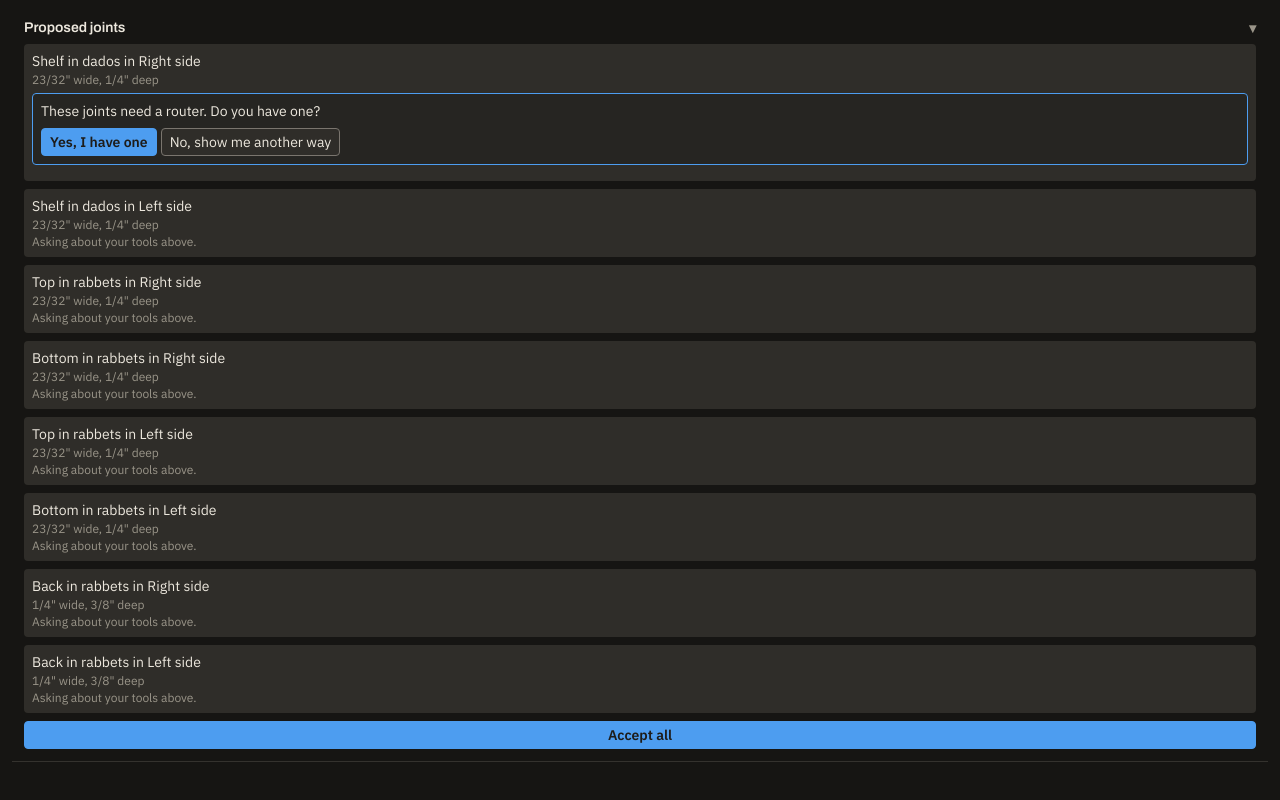
Scenario: the Joinery step › with a shop never told about its tools › asks about a router when a straight bit would cut the dados
expect the text "These joints need a router. Do you have one?" is shown once: met, box [41,102,320,120]
Click the button "Yes, I have one": (99, 142) [41,128,157,156]
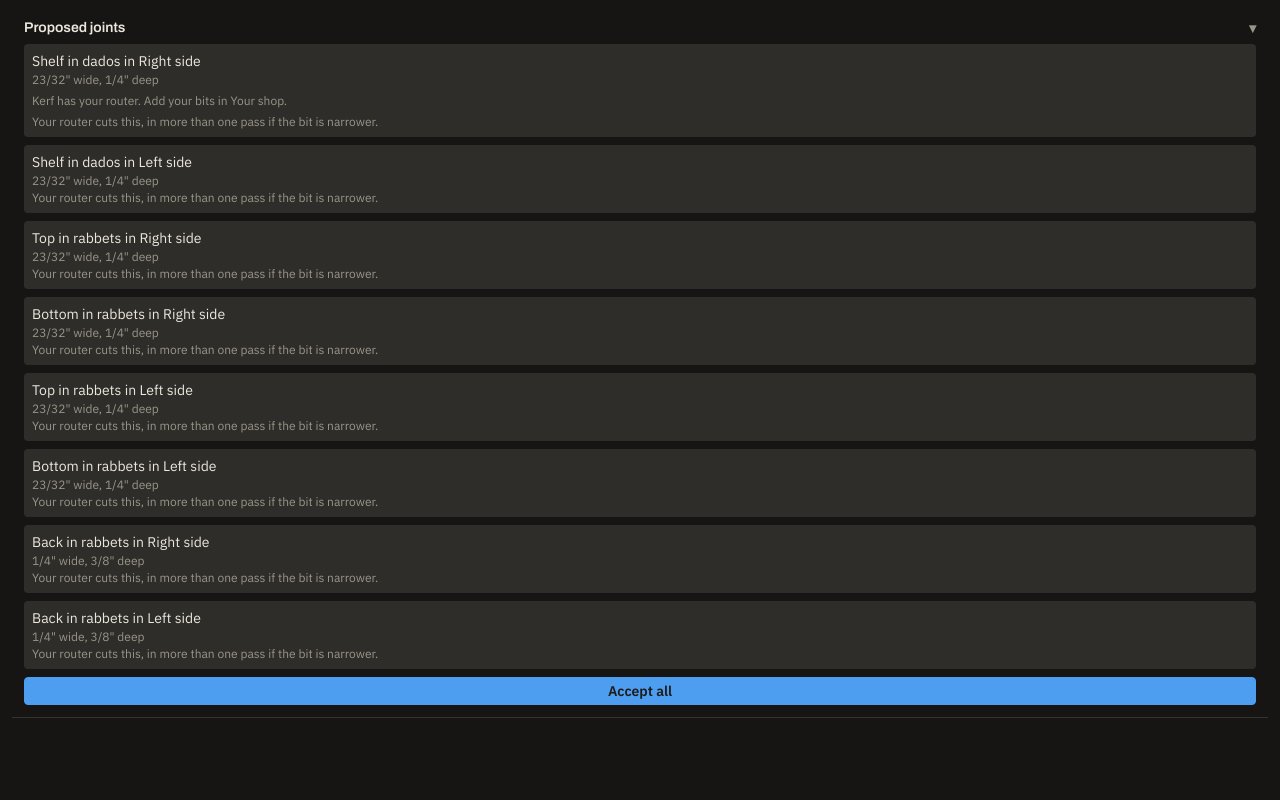
expect the message reads "Kerf has your router. Add your bits in Your shop.": met, box [32,93,287,108]
